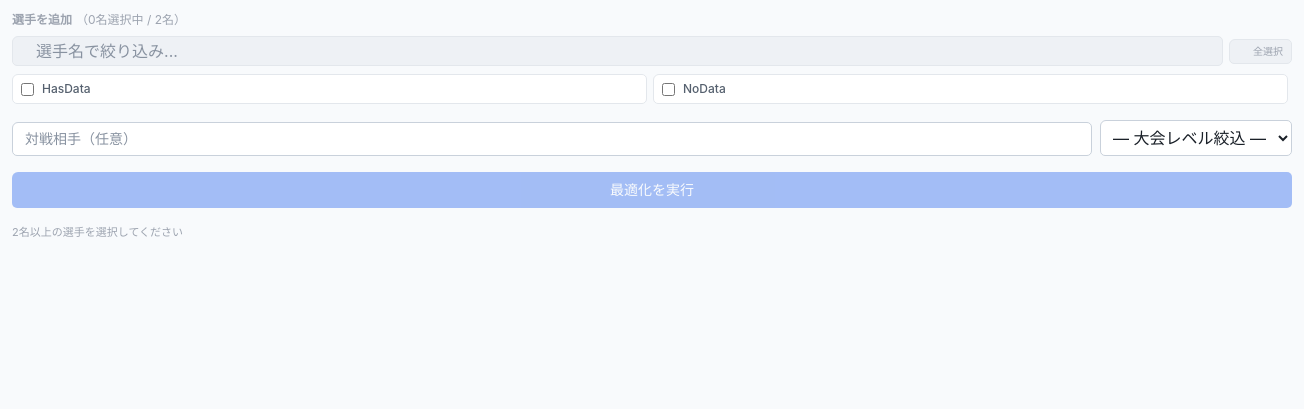
it: LineupOptimizerPanel: 勝率 null の選手に % を描かない › coach view: a player without a win probability is not offered as a candidate
What coordinates should you click on to do the following:
click the checkbox labelled "HasData"
I would click on:
 (28, 89)
Its box is [21,82,34,96].
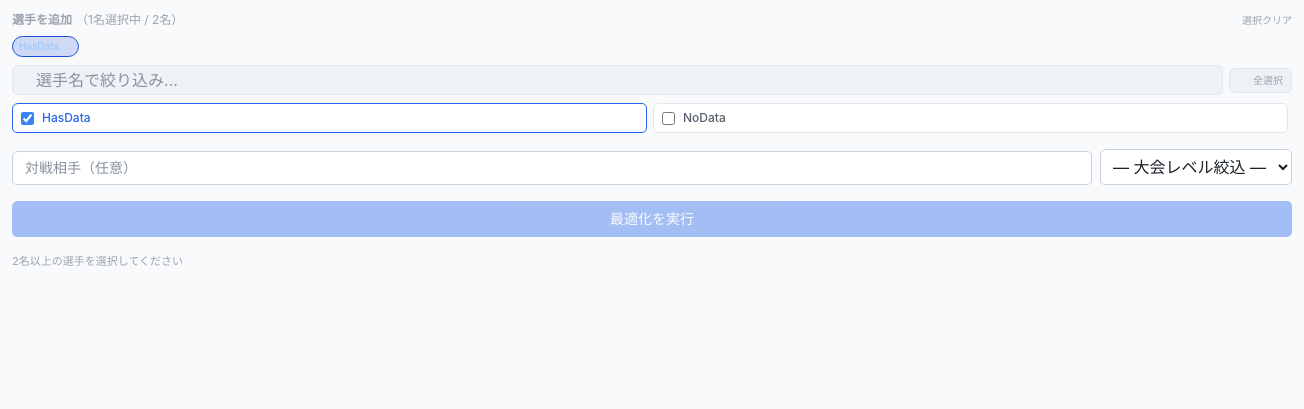
What coordinates should you click on to do the following:
click the checkbox labelled "NoData"
I would click on:
 (668, 118)
Its box is [662,112,675,124].
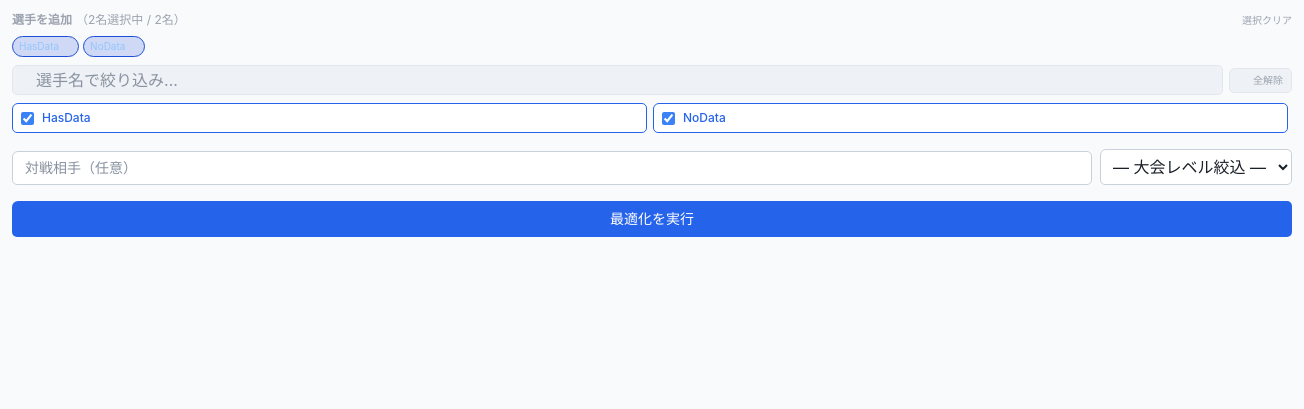
What coordinates should you click on to do the following:
click the button "最適化を実行"
I would click on:
 (652, 219)
Its box is [12,201,1292,237].
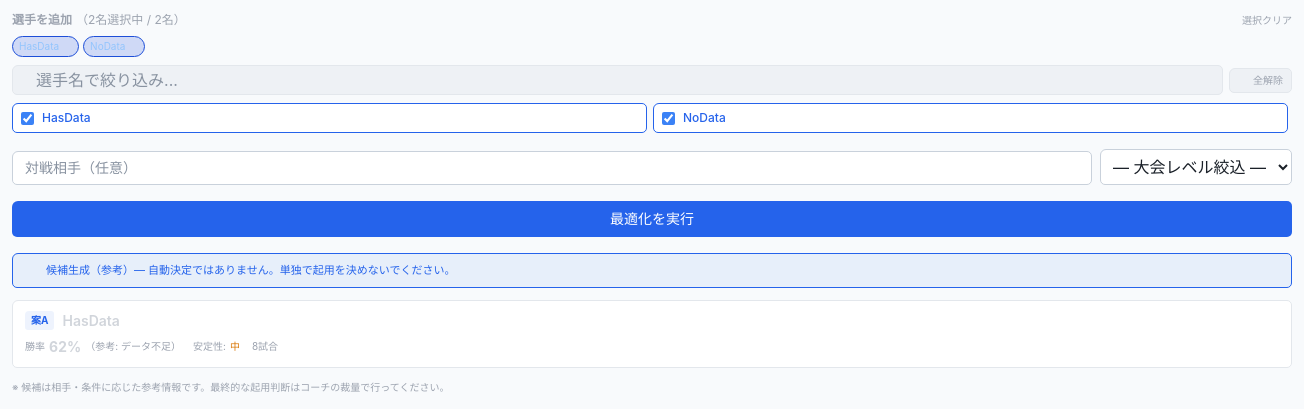
Check: the text "案A" is shown, box [25,311,54,330]
